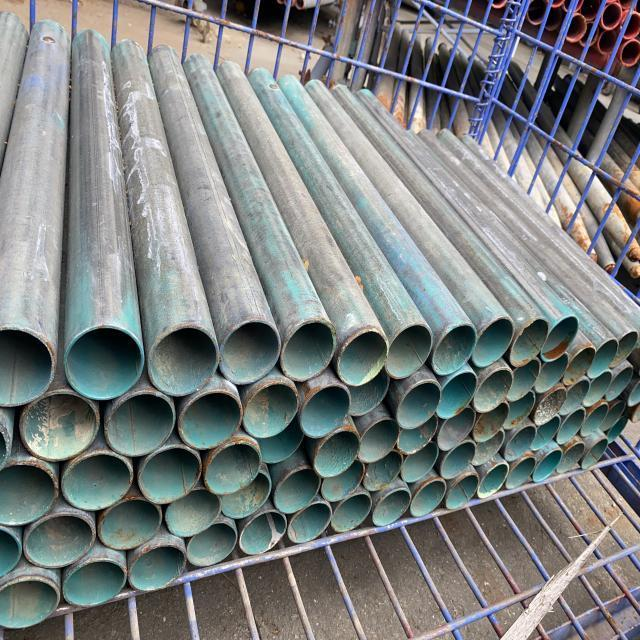pipe: (62, 324, 142, 402), (20, 392, 98, 470), (58, 450, 140, 516), (145, 330, 218, 402), (0, 326, 61, 412), (104, 392, 170, 459), (142, 441, 208, 507), (0, 457, 58, 531), (178, 386, 240, 454), (0, 572, 65, 636), (218, 322, 278, 390), (202, 437, 260, 504), (26, 522, 97, 576), (61, 557, 127, 614), (240, 384, 298, 442), (280, 320, 333, 382), (96, 501, 154, 556), (126, 548, 183, 601), (304, 384, 352, 442), (430, 324, 476, 384), (338, 333, 386, 389), (158, 490, 216, 536), (282, 500, 330, 554), (219, 476, 272, 524), (274, 469, 324, 519), (266, 416, 314, 468), (397, 378, 442, 432), (312, 433, 362, 481), (188, 528, 236, 578), (236, 511, 287, 558), (387, 325, 431, 379), (476, 316, 518, 369), (542, 312, 580, 368), (358, 414, 401, 462), (316, 466, 366, 506), (438, 372, 476, 422), (476, 367, 512, 419), (510, 318, 548, 366), (332, 493, 372, 538), (472, 406, 514, 448), (400, 442, 442, 484), (362, 453, 402, 497), (0, 519, 28, 581), (347, 376, 387, 418), (396, 418, 438, 458), (438, 412, 478, 454), (562, 348, 596, 395), (410, 478, 446, 522), (372, 488, 408, 531), (504, 362, 540, 404), (504, 427, 540, 469), (534, 389, 569, 431), (442, 444, 480, 482), (478, 463, 509, 506), (590, 339, 618, 386), (444, 476, 480, 512), (558, 381, 589, 421), (501, 396, 533, 434), (473, 435, 504, 472), (558, 438, 588, 476), (532, 419, 562, 456), (586, 372, 612, 414), (505, 460, 536, 495), (559, 410, 590, 444), (538, 358, 567, 392), (534, 453, 562, 488), (581, 407, 607, 444), (614, 330, 636, 372), (0, 416, 14, 480), (608, 368, 632, 404), (584, 442, 610, 475), (604, 400, 624, 436), (608, 418, 628, 449), (630, 378, 640, 411), (630, 404, 640, 426)
